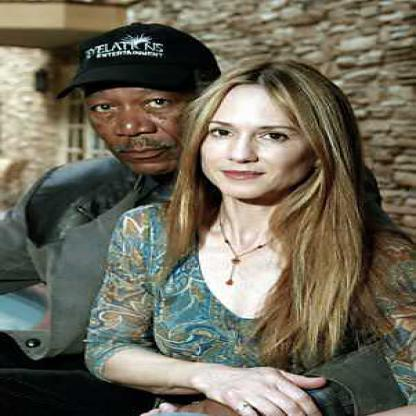face: (83, 35, 210, 180), (197, 71, 325, 202)
